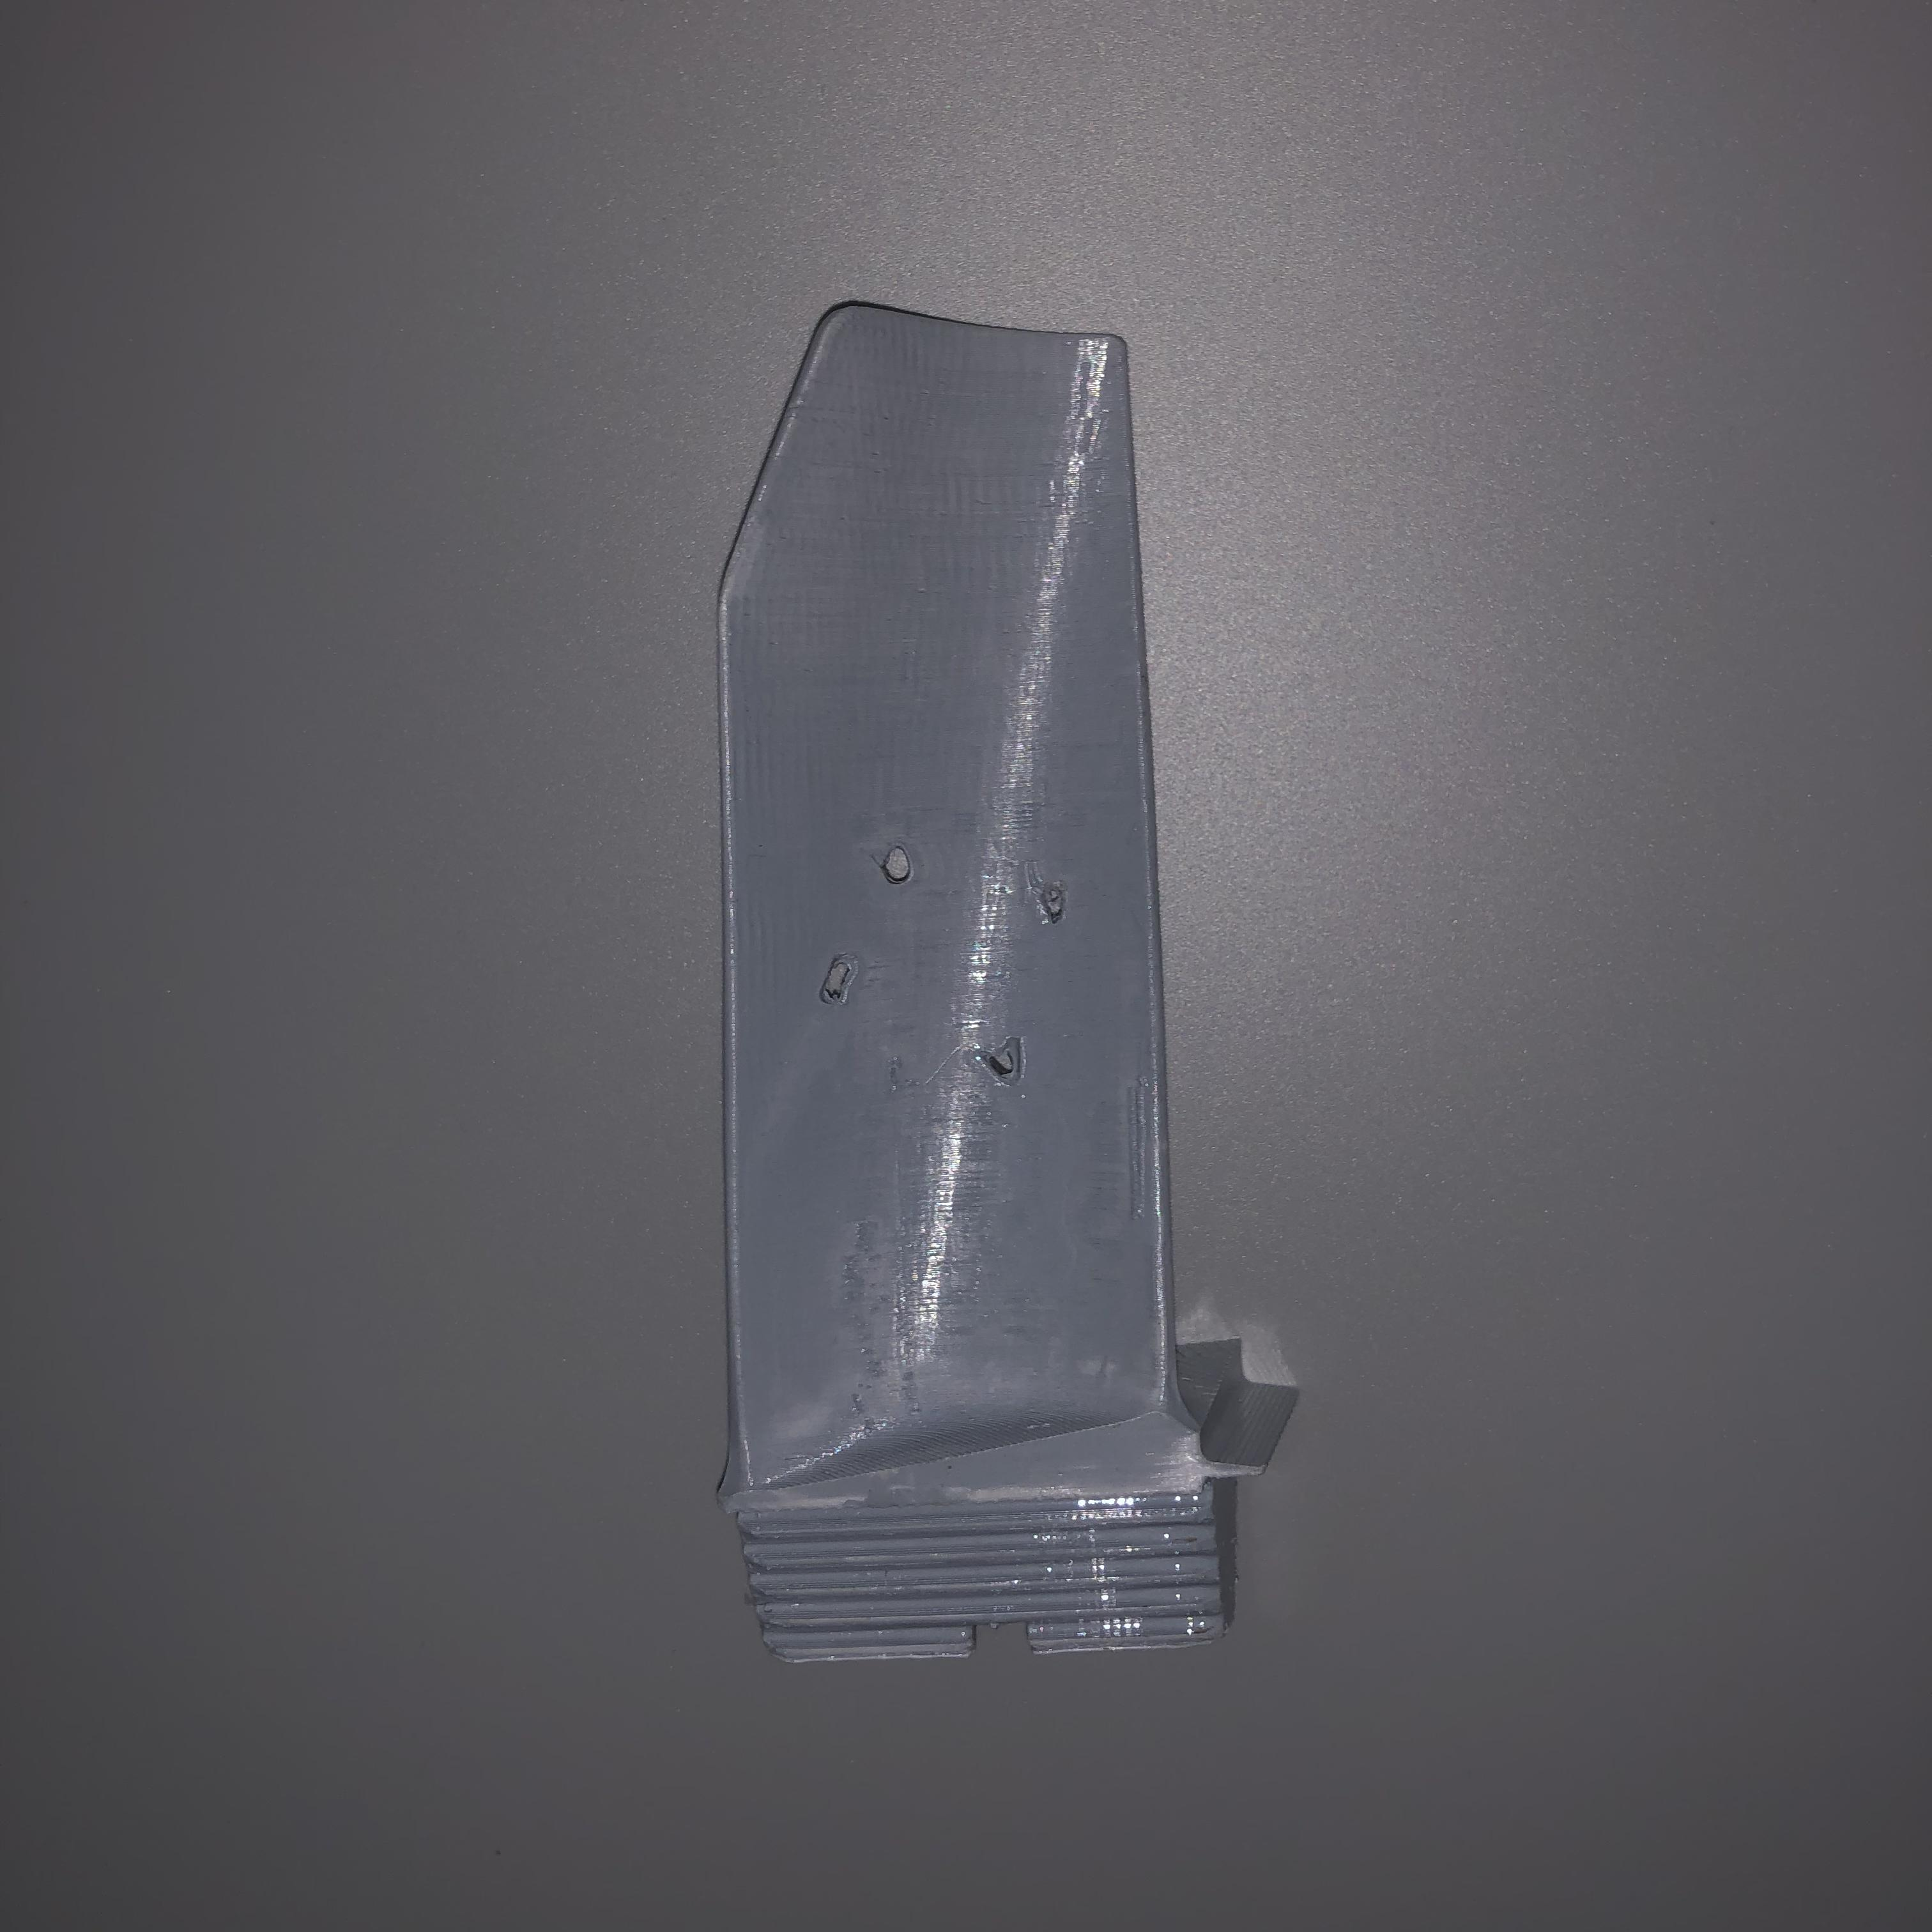breakdown: (823, 847, 1067, 1081)
